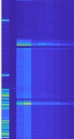leak: (14, 47, 34, 99), (13, 106, 37, 139)
